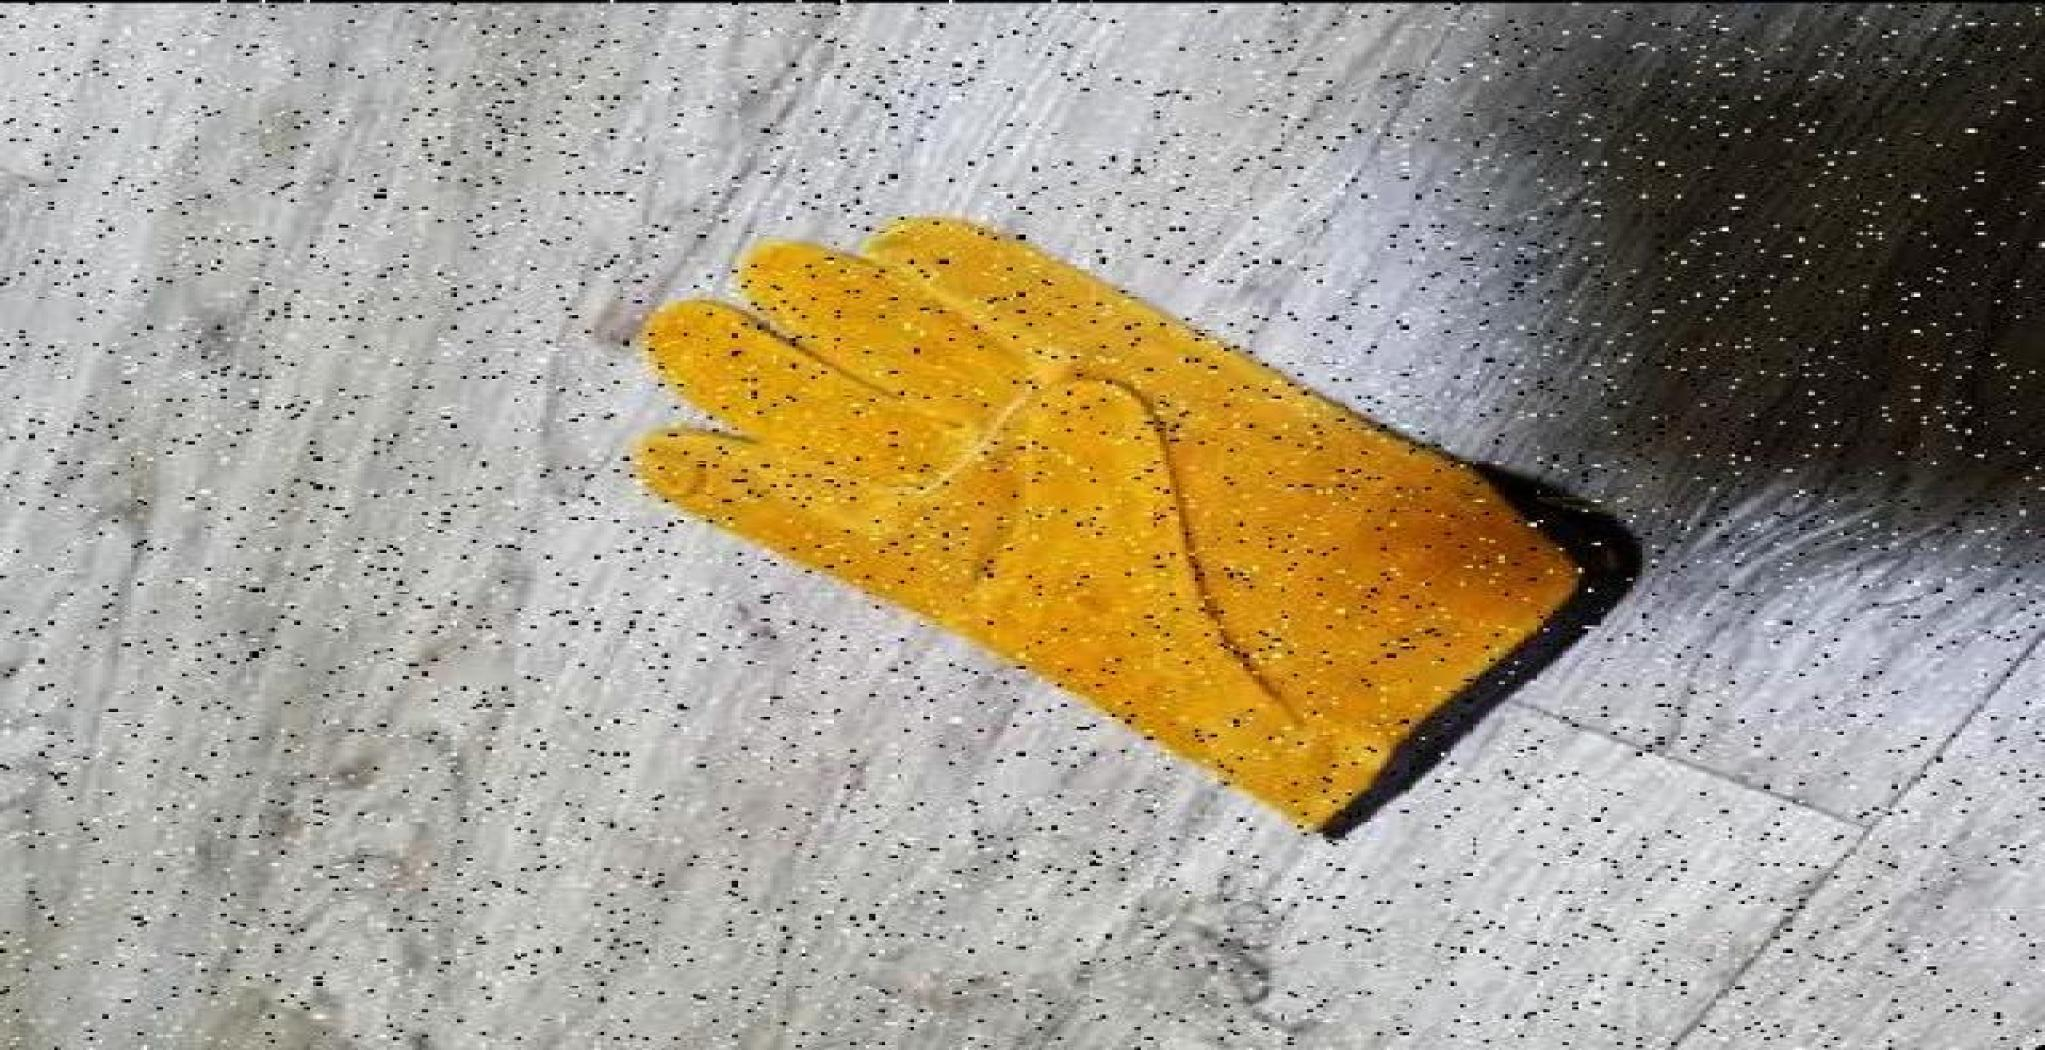gloved: (625, 213, 1639, 840)
